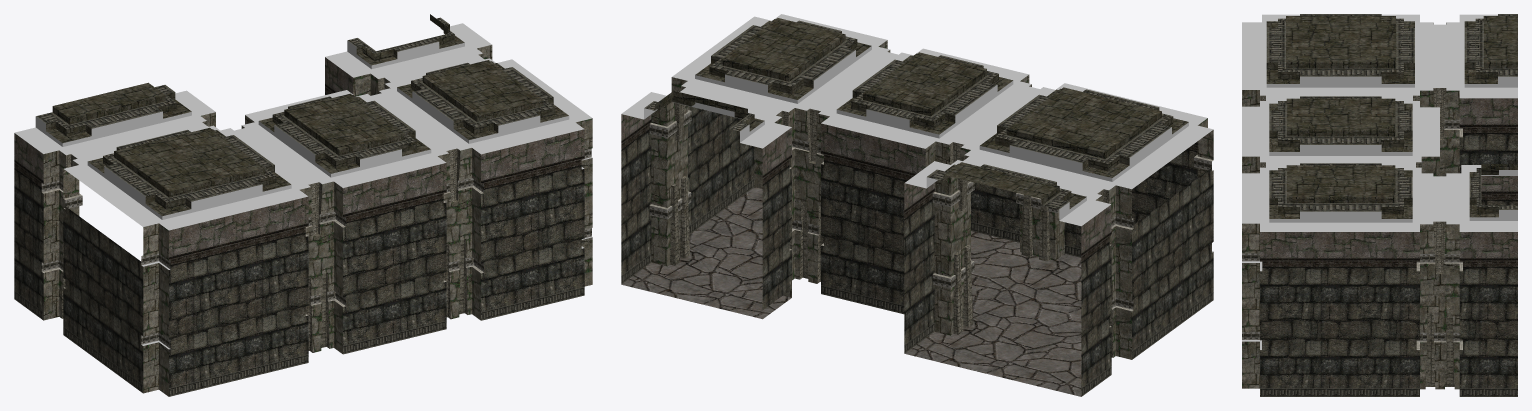
File: thm_yavn_temple_exar_kun_r6_mesh_r6.fbx
3 views of the same model, side by side, from view 1: azimuth 30°, elevation 25°; view 2: azimuth 150°, elevation 25°; view 3: azimuth 270°, elevation 25° (orthographic). The views are drawn at different scales.
Visible parts, largest first — view 1: mesh_node; view 2: mesh_node; view 3: mesh_node.
Boxes of the visible parts, x1,y1,x2,y2 form: mesh_node: (14,14,592,396); mesh_node: (621,14,1213,396); mesh_node: (1242,14,1517,396).
Bounding box in the file's own units: 13 × 5.08 × 6.97.
